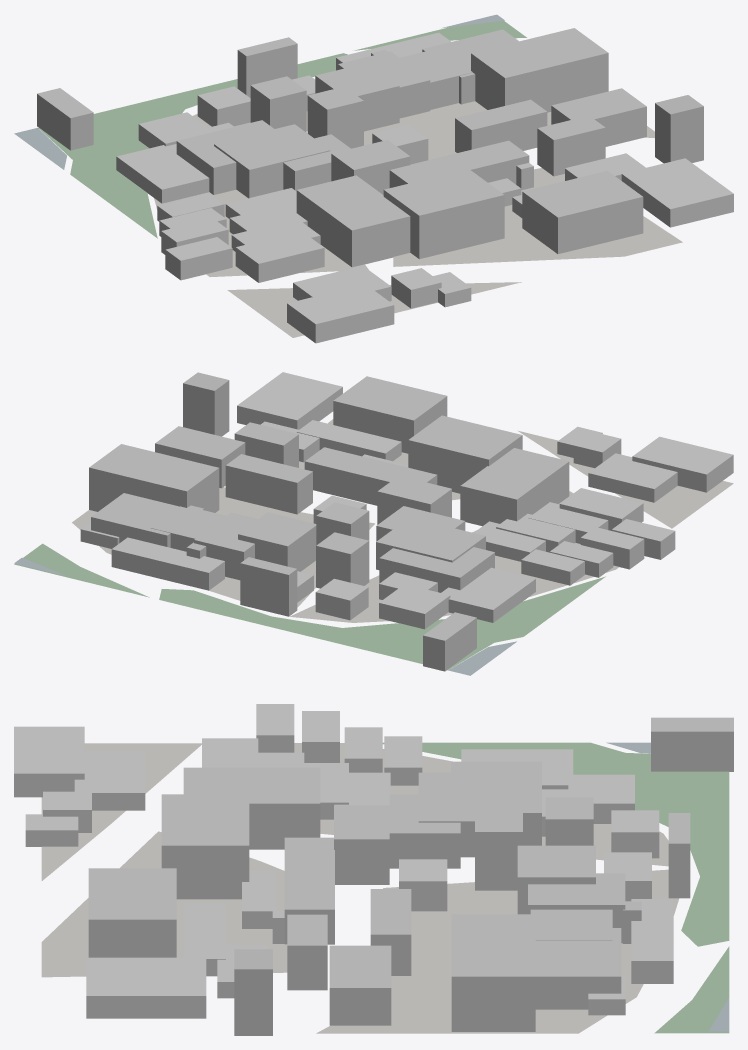
File: 124_90_mid.glb
The picture shows the model from 3 angles, top to bottom: view 1: azimuth 30°, elevation 25°; view 2: azimuth 150°, elevation 25°; view 3: azimuth 270°, elevation 25°; orthographic projection. The views are drawn at different scales.
Size of the model in its own units: 532 by 54.74 by 524.
